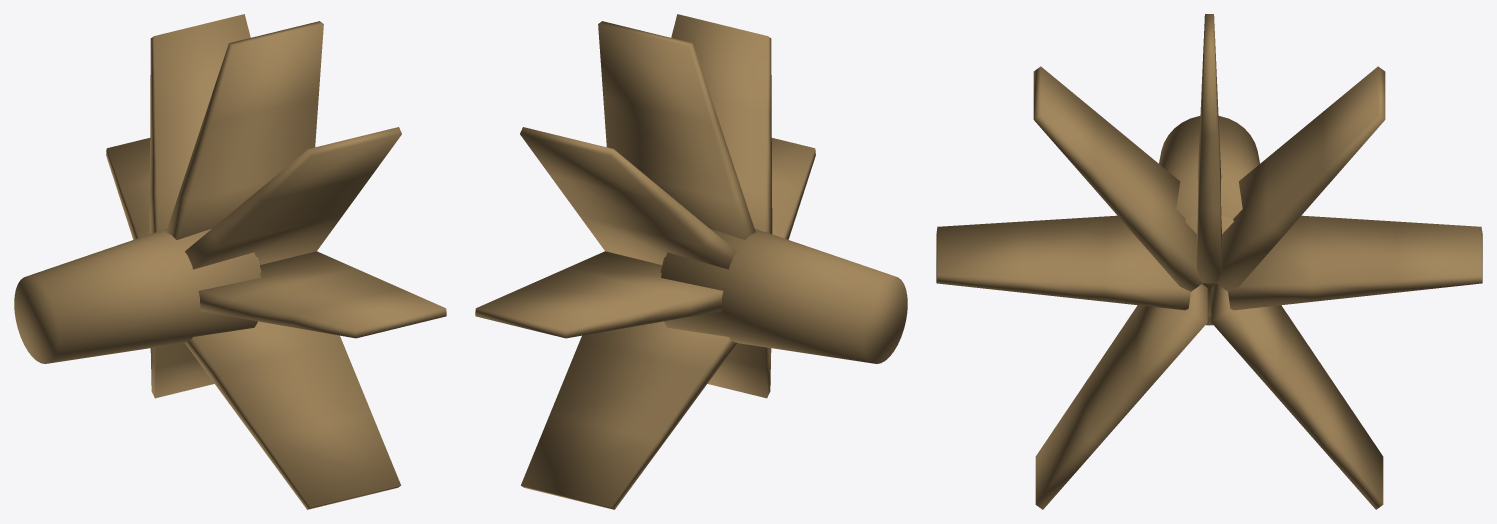
Rendered from US_SSBN_GeorgeWashington_PROPULSOR_01.fbx.
3 views of the same model, side by side, from view 1: azimuth 30°, elevation 25°; view 2: azimuth 150°, elevation 25°; view 3: azimuth 270°, elevation 25° (orthographic). The views are drawn at different scales.
Visible parts, largest first — view 1: US_SSBN_GeorgeWashington_PROPULSOR_01; view 2: US_SSBN_GeorgeWashington_PROPULSOR_01; view 3: US_SSBN_GeorgeWashington_PROPULSOR_01.
Part boxes in pixels (x1,y1,x2,y2): US_SSBN_GeorgeWashington_PROPULSOR_01: (14, 14, 446, 509); US_SSBN_GeorgeWashington_PROPULSOR_01: (475, 14, 907, 509); US_SSBN_GeorgeWashington_PROPULSOR_01: (936, 14, 1482, 509).
Bounding box in the file's own units: 2.2 × 3.34 × 3.02.
